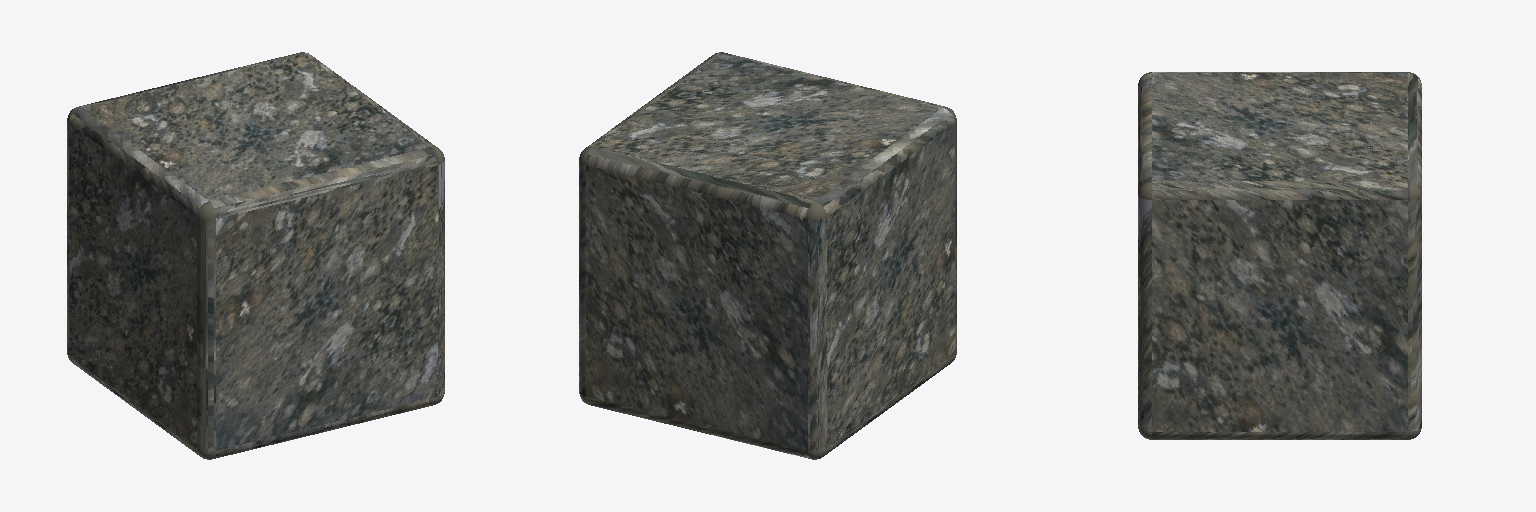
3 views of the same model, side by side, from view 1: azimuth 30°, elevation 25°; view 2: azimuth 150°, elevation 25°; view 3: azimuth 270°, elevation 25° (orthographic).
Parts seen in each view (by area): view 1: Cube; view 2: Cube; view 3: Cube.
Part boxes in pixels (x1,y1,x2,y2): Cube: (67,52,444,459); Cube: (579,52,956,459); Cube: (1138,72,1421,439).
Bounding box in the file's own units: 2 × 2 × 2.
Materials: 1 (1 with a texture image).